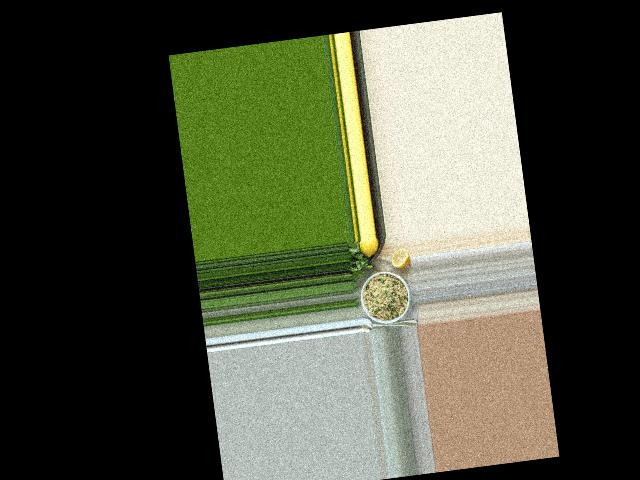lemon: (359, 238, 377, 257)
